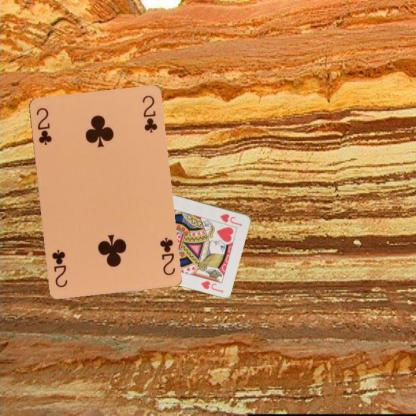2c: (157, 235, 176, 276), (34, 105, 52, 146)
Jh: (218, 211, 243, 228)
